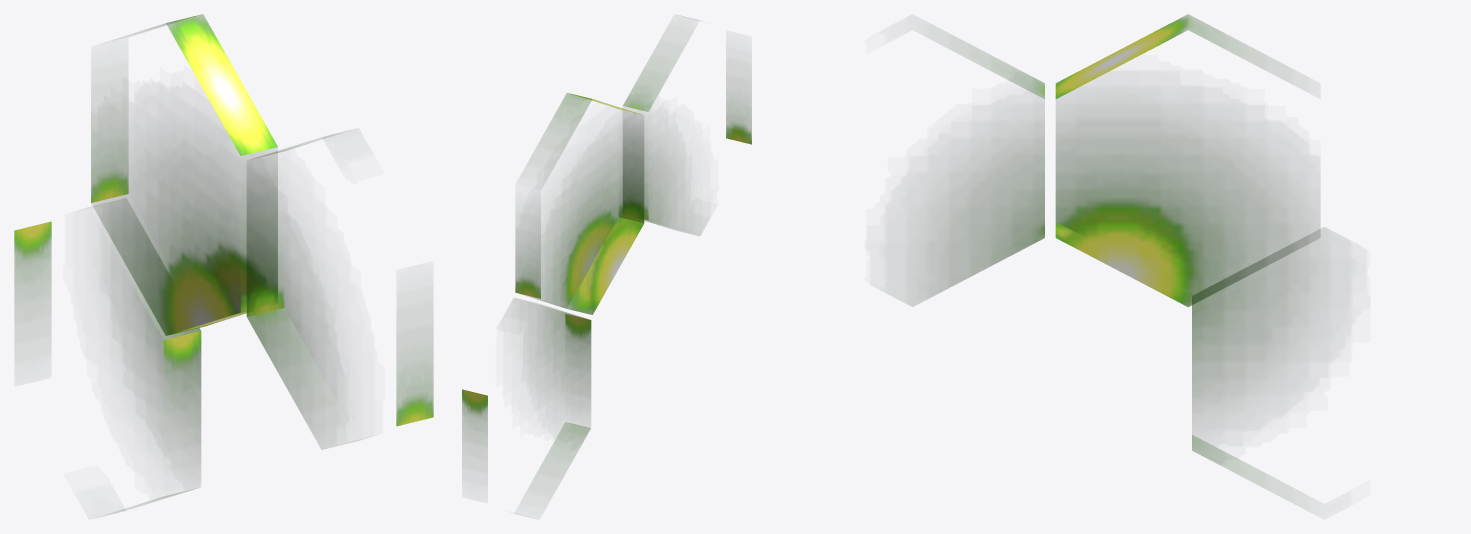
3 renders of one model, left to right at view 1: azimuth 30°, elevation 25°; view 2: azimuth 150°, elevation 25°; view 3: azimuth 270°, elevation 25°, orthographic. The views are drawn at different scales.
Bounding box in the file's own units: 0.1245 × 1.76 × 2.2.
1 material, 1 textured.
